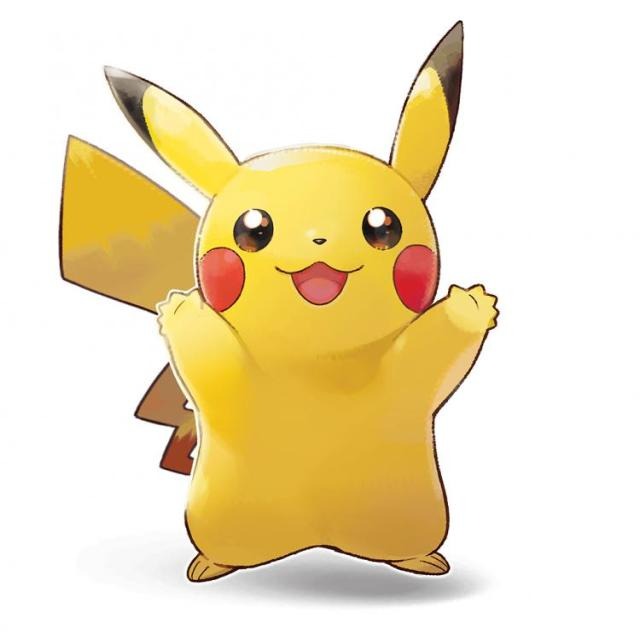pikachu: (58, 19, 499, 582)
